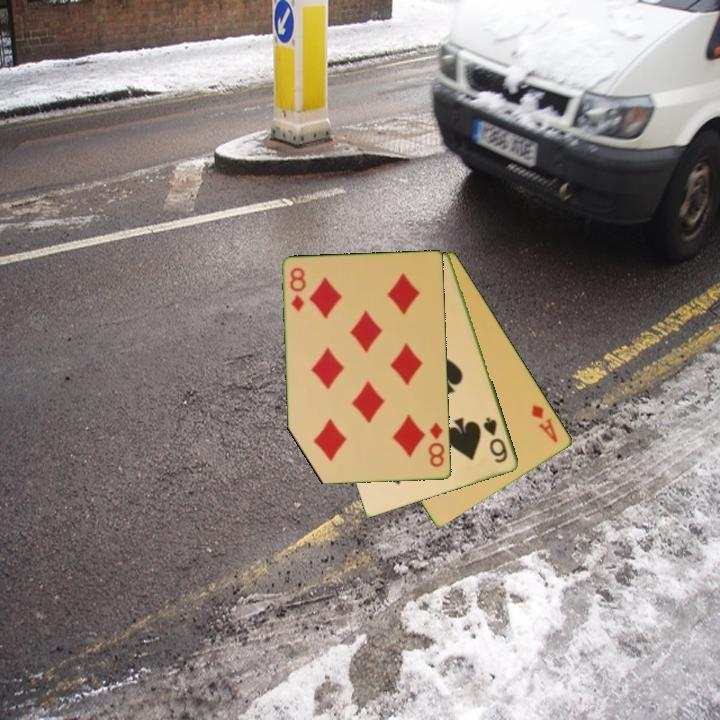6s: (480, 414, 511, 466)
8d: (425, 419, 448, 470), (287, 264, 308, 315)
Ad: (528, 401, 561, 446)
